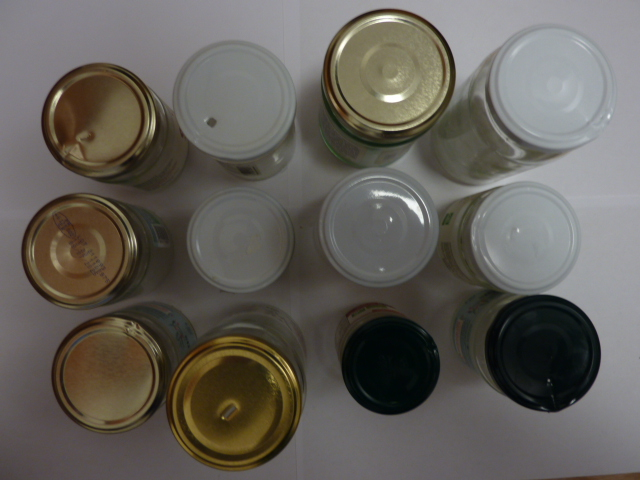damaged: (169, 338, 299, 472), (172, 39, 296, 158), (40, 62, 156, 178), (490, 294, 602, 414), (50, 317, 164, 433), (471, 181, 582, 293)
intact: (326, 10, 456, 135), (318, 166, 438, 288), (20, 192, 134, 308), (188, 188, 294, 292), (343, 317, 440, 417)
